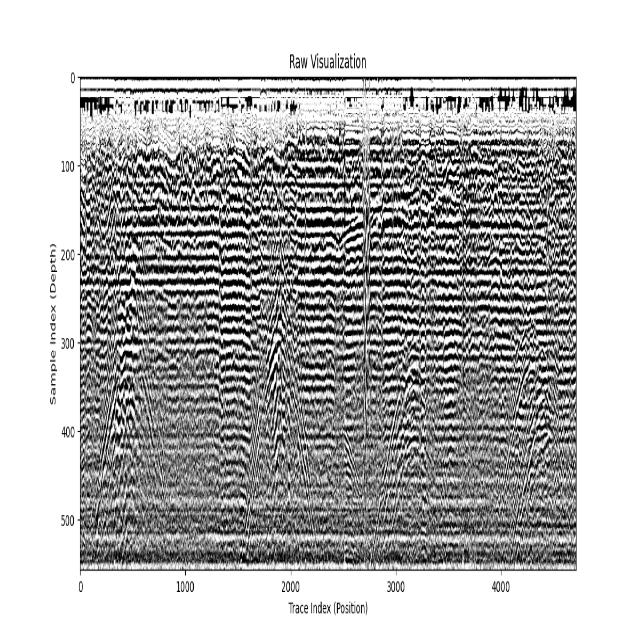anomaly: (237, 224, 318, 554), (92, 227, 166, 553), (492, 290, 575, 567), (368, 365, 448, 558), (361, 130, 371, 560)
